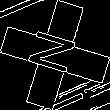N_E: (25, 29, 85, 81)
